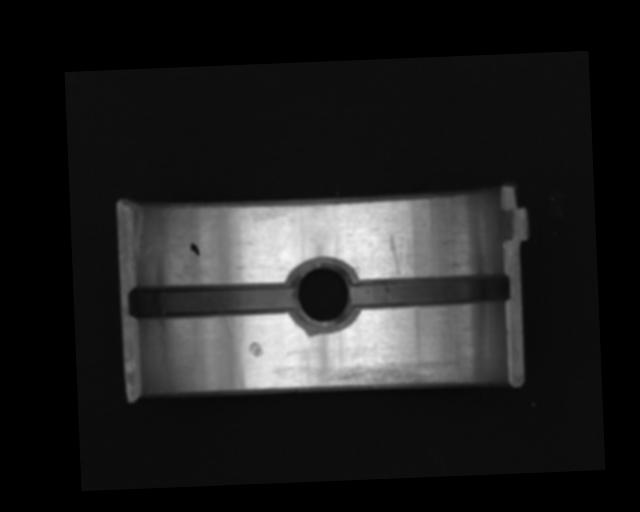blot: (189, 242, 200, 257)
bruise: (247, 340, 263, 358)
gap: (128, 280, 298, 321), (353, 272, 510, 310)
hole: (288, 256, 361, 334)
nick: (387, 232, 406, 279)
scratch: (317, 358, 469, 391)
